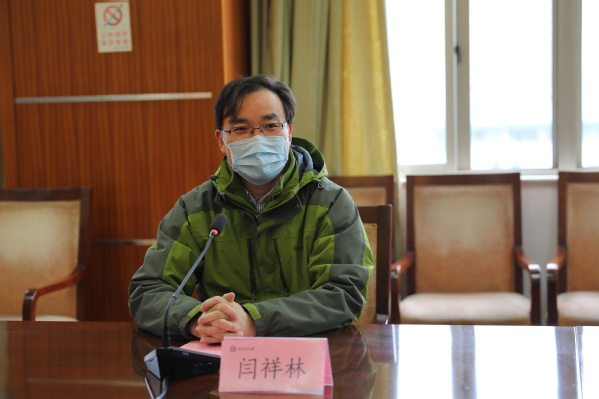correctlyWear: (214, 104, 292, 185)
